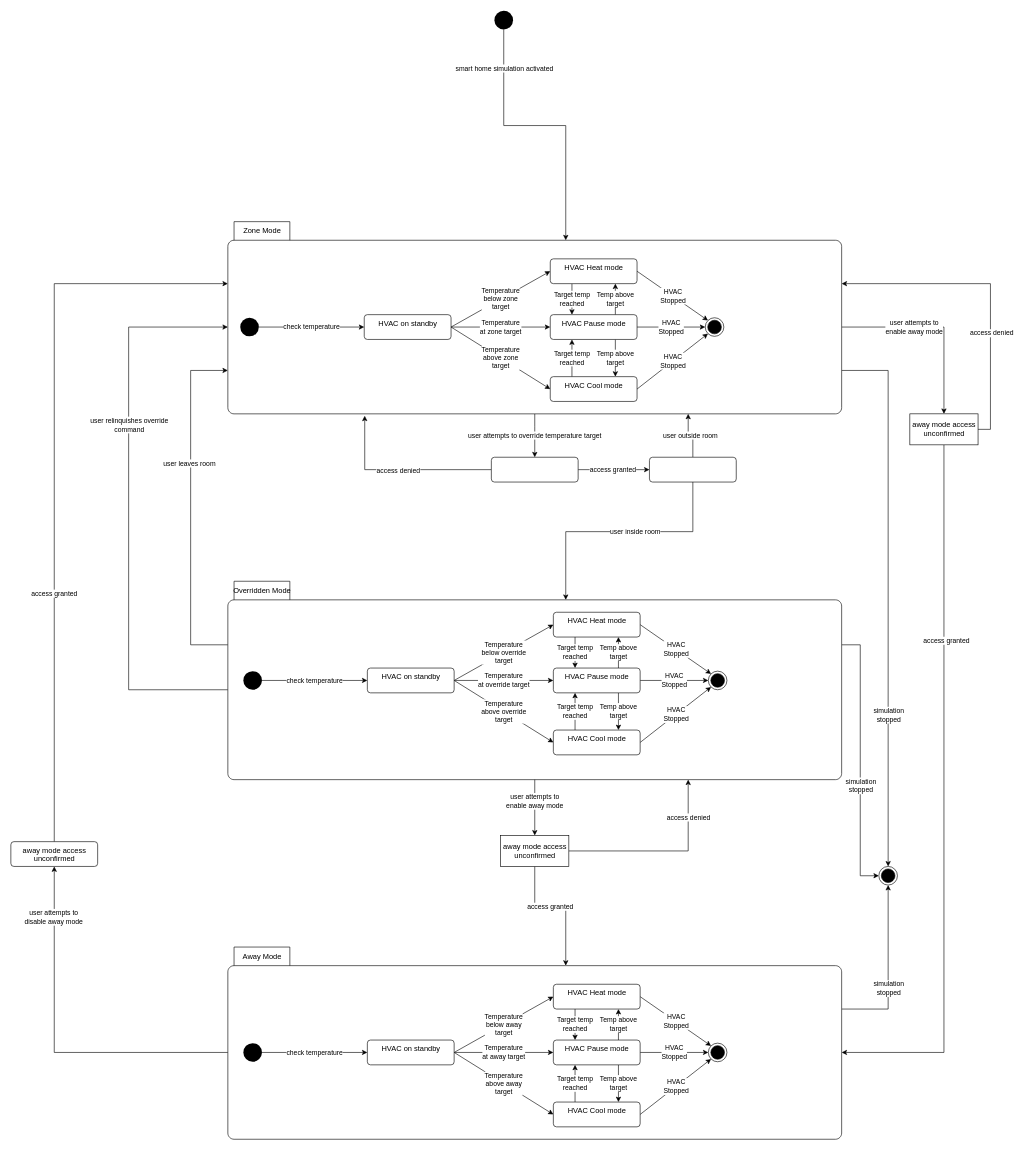
The diagram is 1024 pixels wide and 1150 high, and some of its shapes have lost their labels. The centre of each missing label's shape, as x and y in pixels:
override access unconfirmed: the point at 534,469
user location unconfirmed: the point at 692,469
